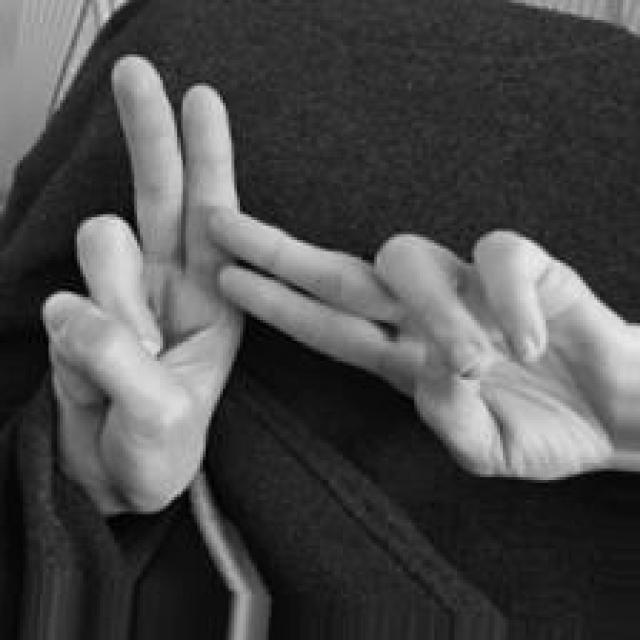K: (37, 49, 640, 516)
